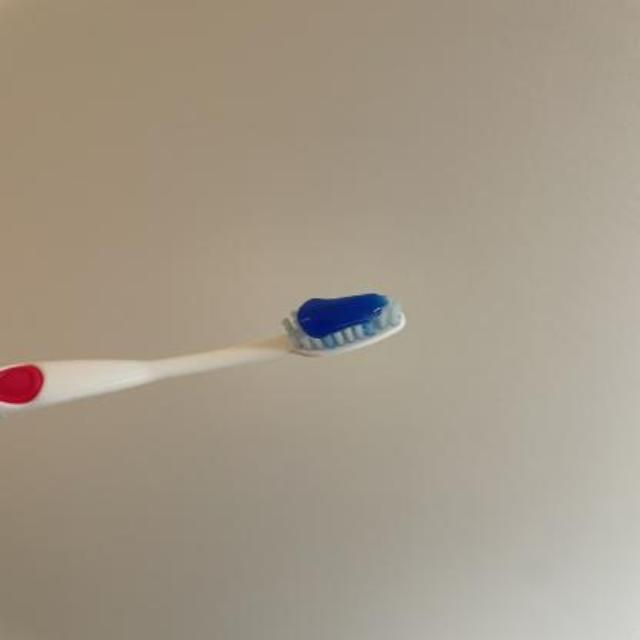toothbrush: (1, 288, 416, 417)
